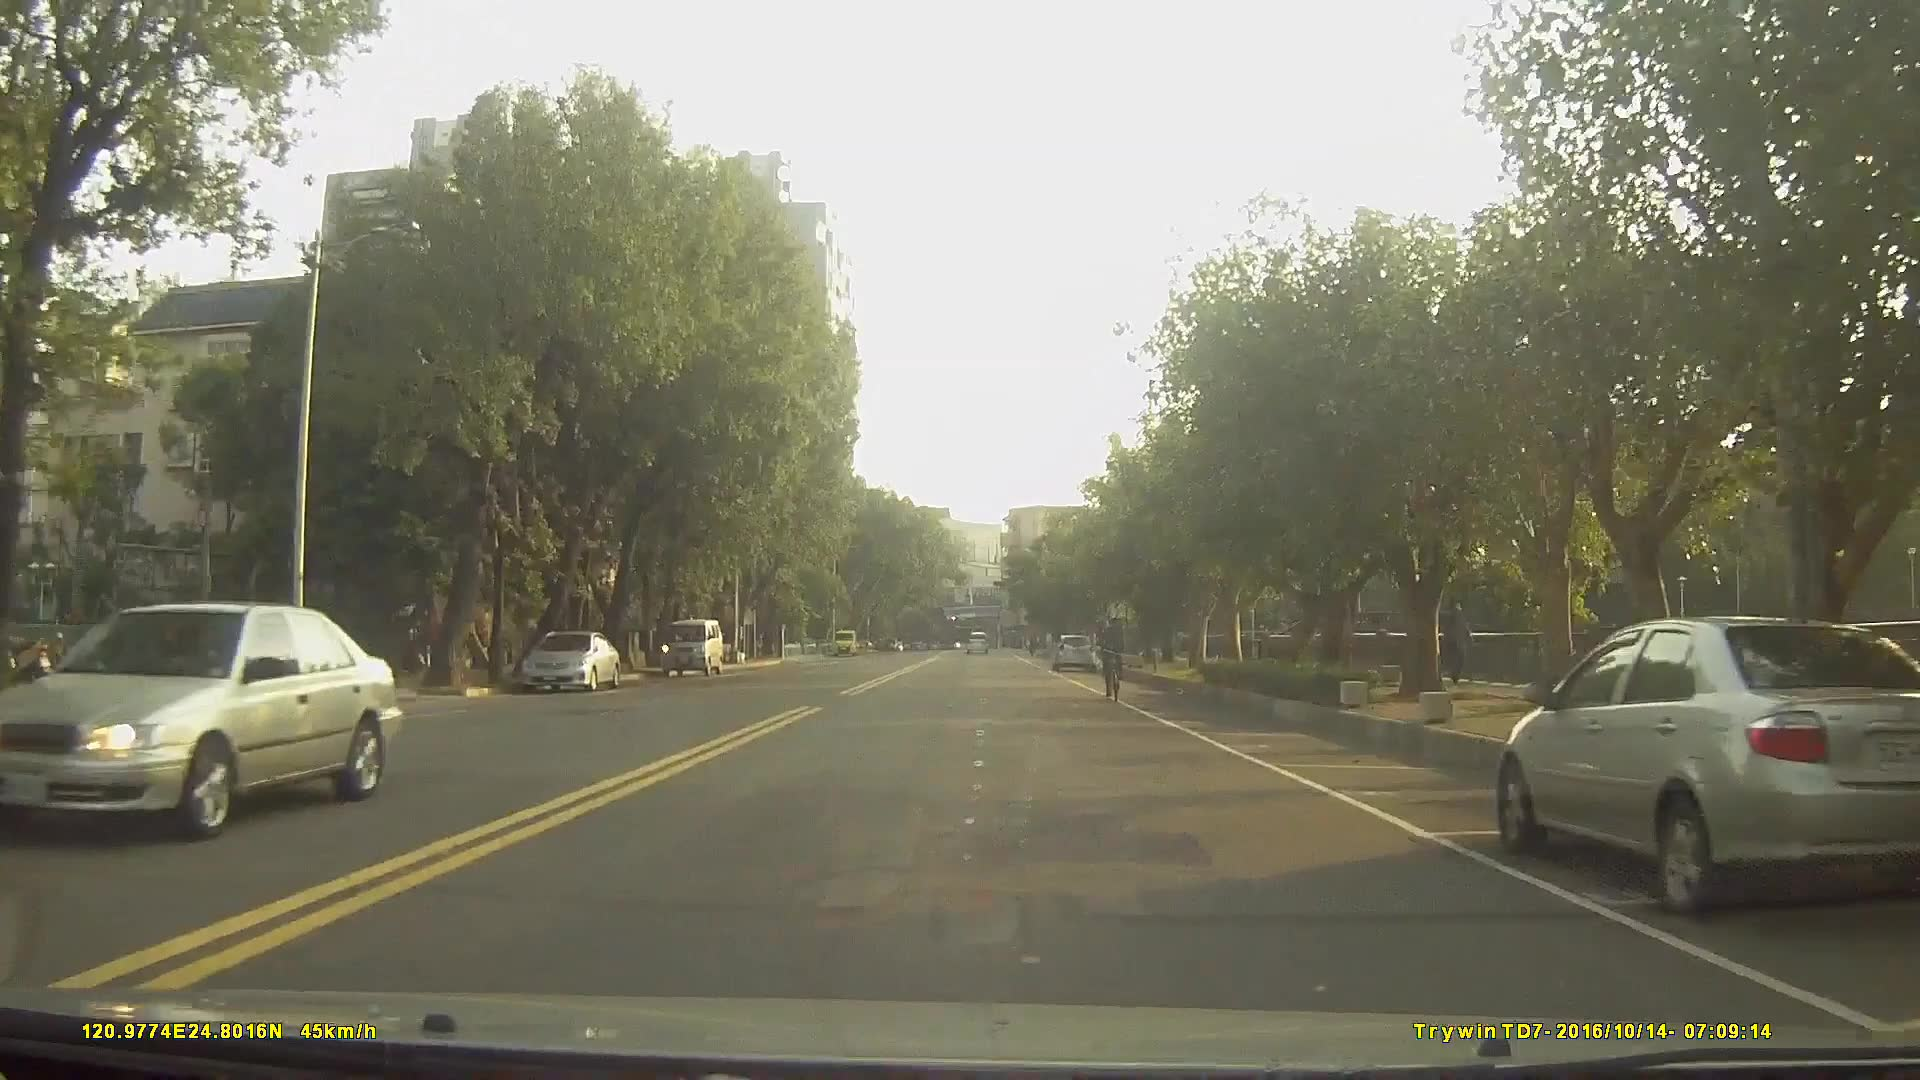rider: (1098, 614, 1128, 701)
vehicle: (1495, 613, 1920, 918), (2, 599, 399, 839), (518, 630, 620, 697), (657, 617, 723, 679), (1049, 632, 1095, 672), (963, 625, 988, 651)
